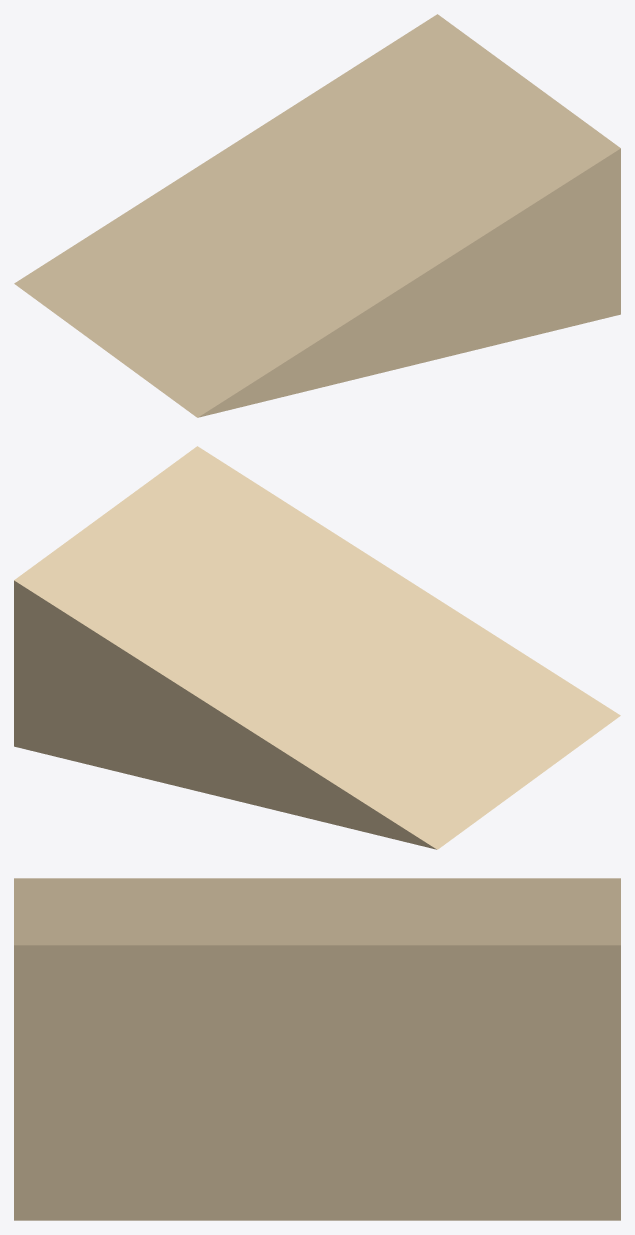
Rendered from ramp_4x1p5x3.glb.
The picture shows the model from 3 angles, top to bottom: view 1: azimuth 30°, elevation 25°; view 2: azimuth 150°, elevation 25°; view 3: azimuth 270°, elevation 25°; orthographic projection. The views are drawn at different scales.
Parts seen in each view (by area): view 1: ramp; view 2: ramp; view 3: ramp.
Part boxes in pixels (x1,y1,x2,y2): ramp: (14,14,620,417); ramp: (14,446,620,849); ramp: (14,878,620,1220).
Bounding box in the file's own units: 4 × 1.5 × 3.
